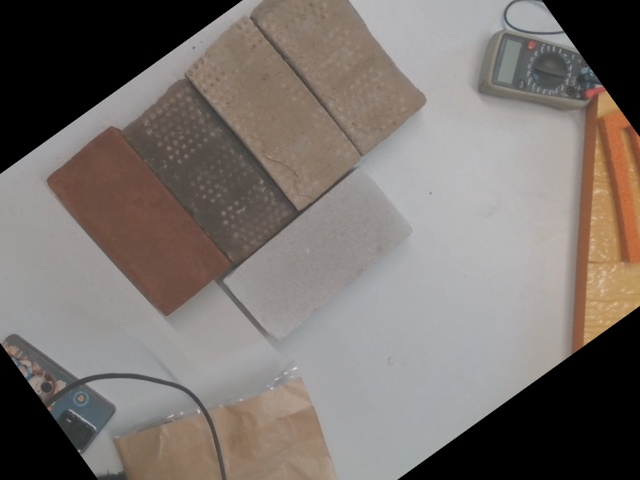brick: (47, 127, 229, 317), (226, 167, 414, 345), (185, 20, 360, 207), (123, 80, 297, 266), (250, 0, 428, 154)
